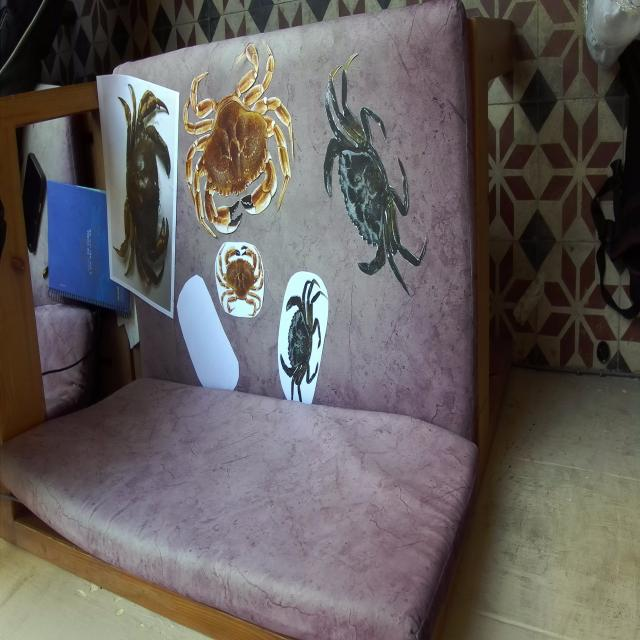European_Green_Crab: (296, 42, 441, 334), (273, 268, 331, 412)
